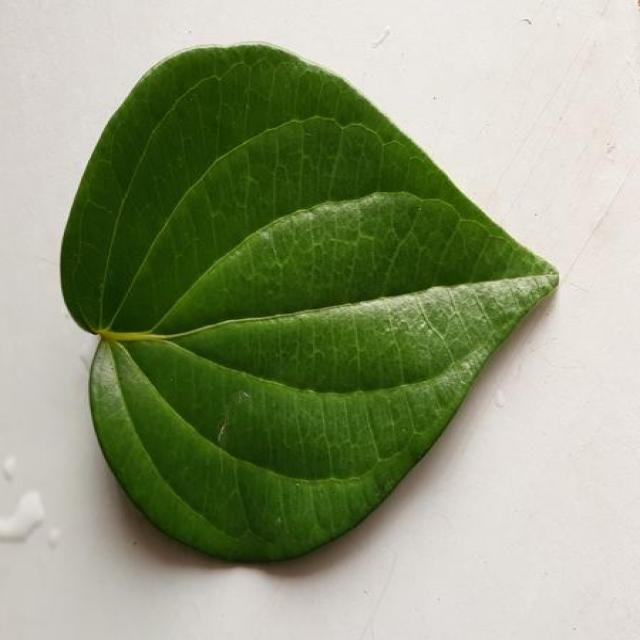betel: (62, 45, 558, 561)
